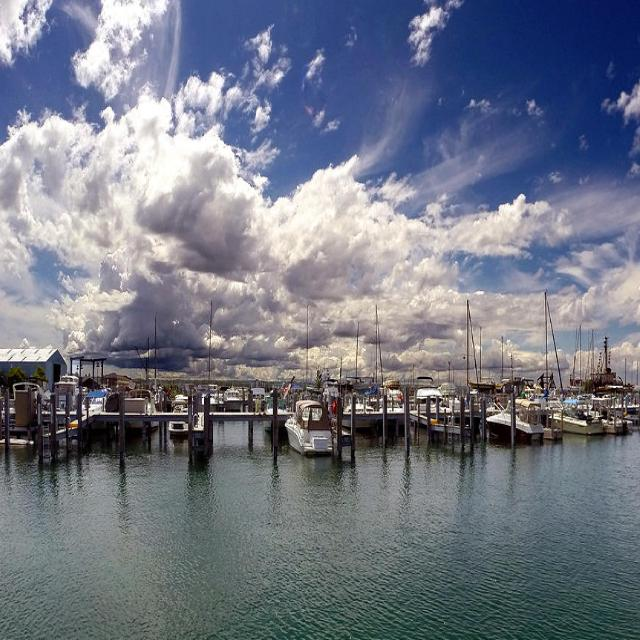passenger ship: (280, 382, 332, 464), (151, 382, 197, 470), (500, 389, 553, 435)
